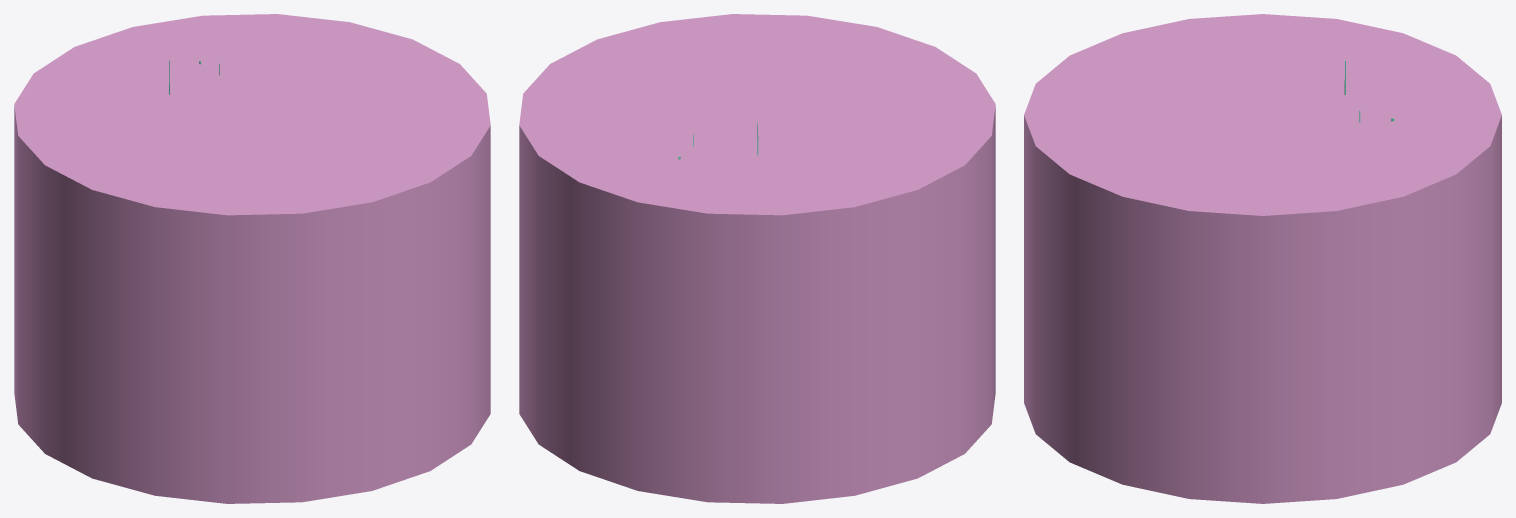
The model's file is blockout.fbx.
3 views of the same model, side by side, from view 1: azimuth 30°, elevation 25°; view 2: azimuth 150°, elevation 25°; view 3: azimuth 270°, elevation 25° (orthographic).
Parts seen in each view (by area): view 1: room; view 2: room; view 3: room.
Boxes of the visible parts, box(x1,y1,x2,y2) form: room: box(14, 14, 490, 503); room: box(519, 14, 995, 503); room: box(1024, 14, 1501, 503).
Bounding box in the file's own units: 421 × 313 × 421.
